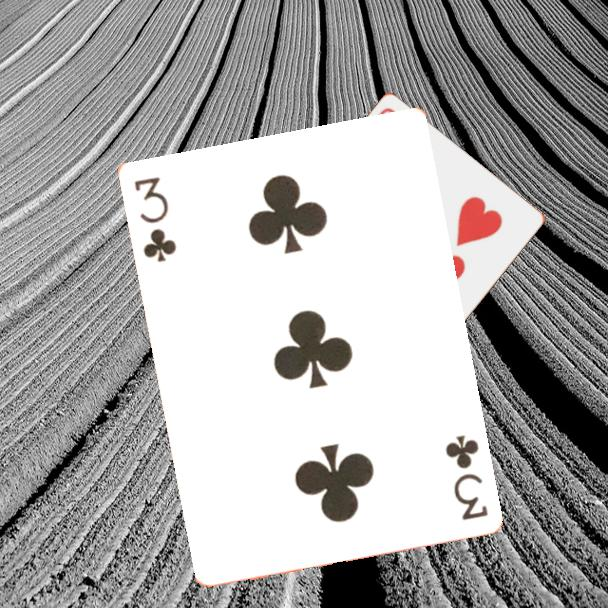c03: (441, 431, 491, 523), (130, 173, 179, 265)
